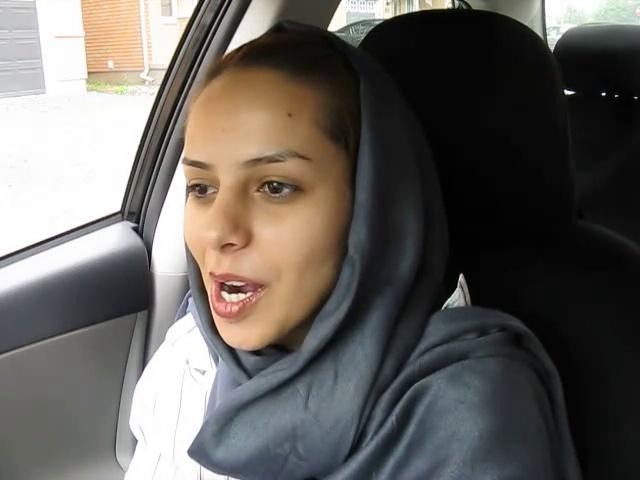open_eyeL: (173, 168, 226, 211)
open_eyeR: (240, 165, 316, 211)
yawn: (195, 263, 284, 323)
